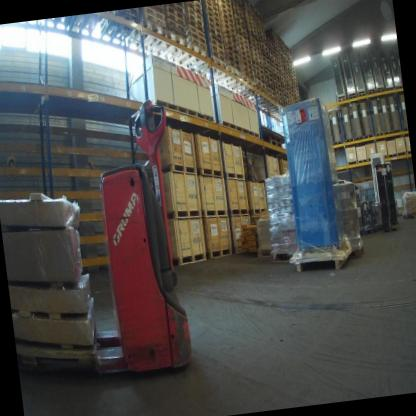pallet: (150, 90, 222, 141), (292, 242, 356, 277), (141, 26, 189, 66), (121, 17, 171, 55), (216, 113, 263, 152), (168, 40, 213, 77), (201, 61, 242, 92), (192, 54, 229, 85), (220, 74, 257, 101), (237, 81, 268, 110), (269, 244, 302, 267), (248, 90, 279, 114), (166, 203, 205, 222), (347, 237, 373, 264), (173, 251, 208, 270), (163, 160, 200, 177), (144, 12, 170, 34), (199, 202, 228, 219), (188, 36, 211, 56), (199, 164, 226, 181), (207, 245, 235, 261), (166, 24, 189, 43), (249, 202, 274, 219), (222, 165, 247, 181), (382, 219, 403, 238), (227, 204, 253, 218), (256, 244, 277, 261), (265, 137, 286, 154), (210, 48, 226, 64), (401, 206, 416, 222), (264, 130, 281, 144), (228, 57, 242, 72), (391, 121, 404, 137), (333, 137, 346, 151), (256, 79, 269, 92), (242, 70, 256, 82), (366, 224, 379, 236), (358, 89, 370, 102), (373, 130, 386, 142), (385, 151, 397, 164), (344, 135, 357, 147), (353, 132, 363, 147), (365, 87, 375, 100), (378, 152, 389, 163), (383, 128, 396, 137), (337, 95, 348, 105), (347, 92, 357, 102), (357, 157, 366, 168), (273, 78, 282, 89), (273, 75, 282, 86), (361, 130, 373, 138), (275, 87, 283, 97), (276, 97, 284, 106), (274, 84, 282, 93), (273, 71, 281, 80), (377, 87, 385, 94), (403, 124, 408, 135), (276, 93, 283, 100)
pallet_truck: (53, 84, 208, 383)
